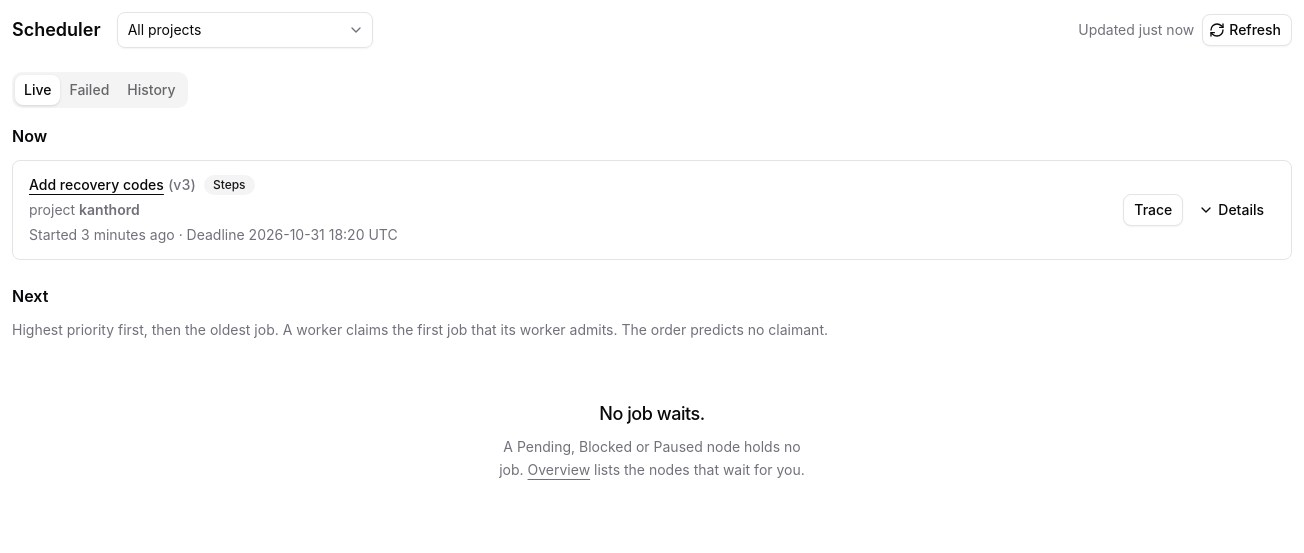
SchedulerScreen Now › names the claim kind, the claimant and the fixed deadline of a running execution
This screenshot has width=1304, height=553.
Expected: the text "(v3)" is shown, left=168, top=175, right=196, bottom=195
Expected: the icon "Steps" is shown, left=204, top=175, right=255, bottom=195
Click the button with aria-label "Details of the execution". click: x=1233, y=210
box: left=1191, top=194, right=1275, bottom=226
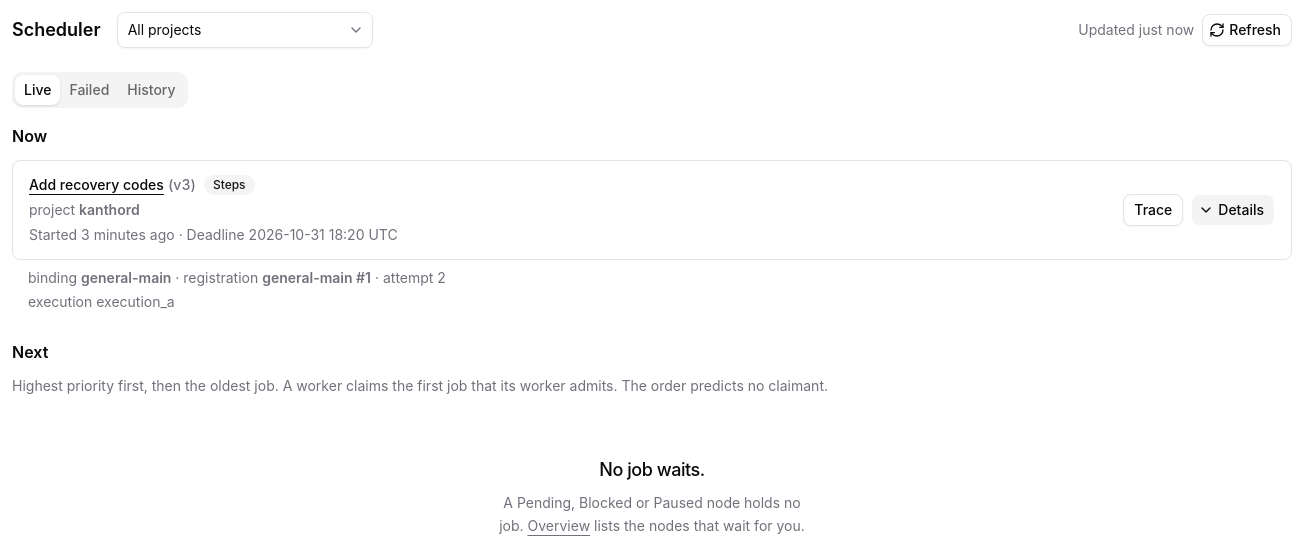
Expected: the text "Started 3 minutes ago" is shown, left=29, top=226, right=175, bottom=243
Expected: the text "execution execution_a" is shown, left=28, top=293, right=175, bottom=310
